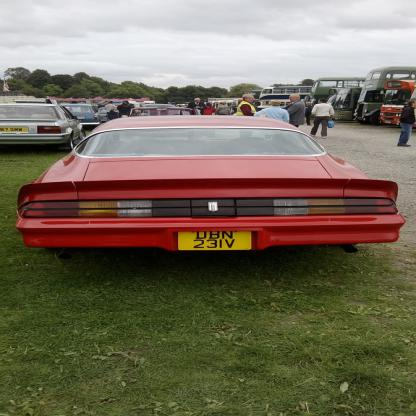Car: (11, 111, 405, 262), (0, 100, 86, 152), (118, 105, 212, 137), (63, 101, 100, 127), (96, 108, 111, 120)
